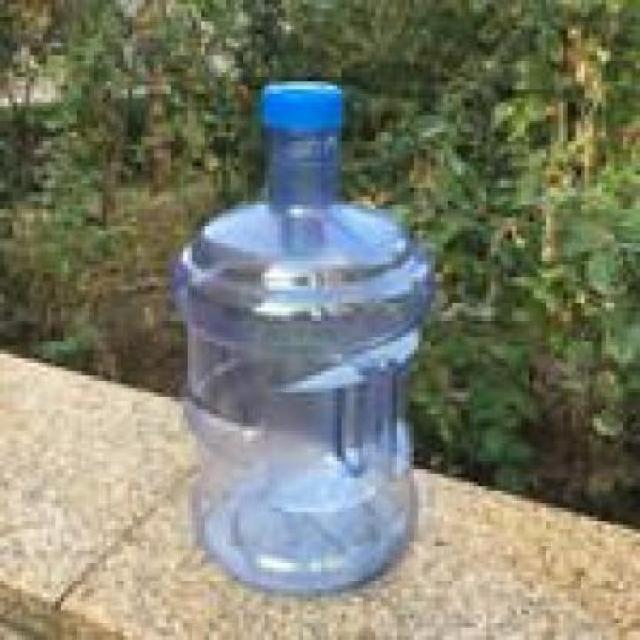coolerbottle: (171, 68, 427, 604)
